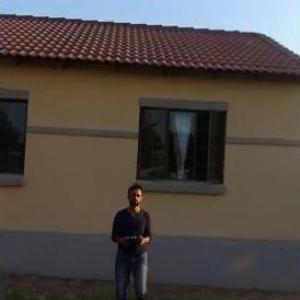follow: (108, 181, 161, 299)
